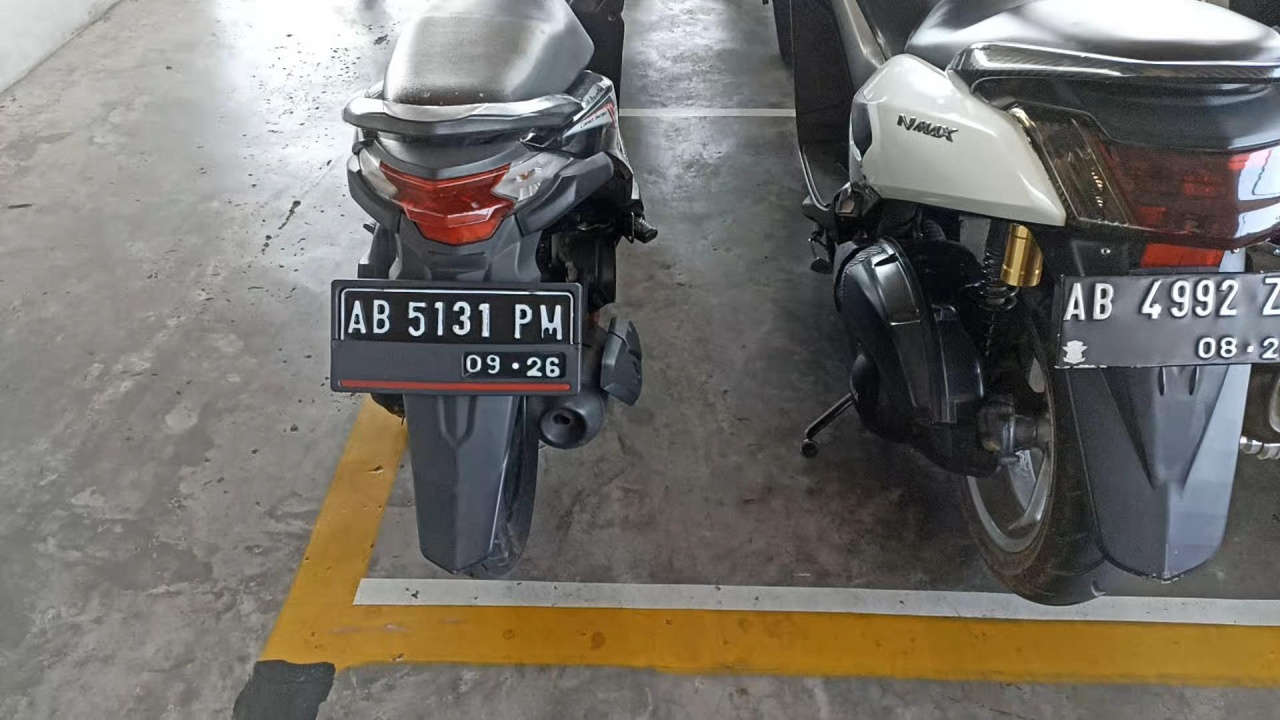plate: (333, 281, 578, 393)
